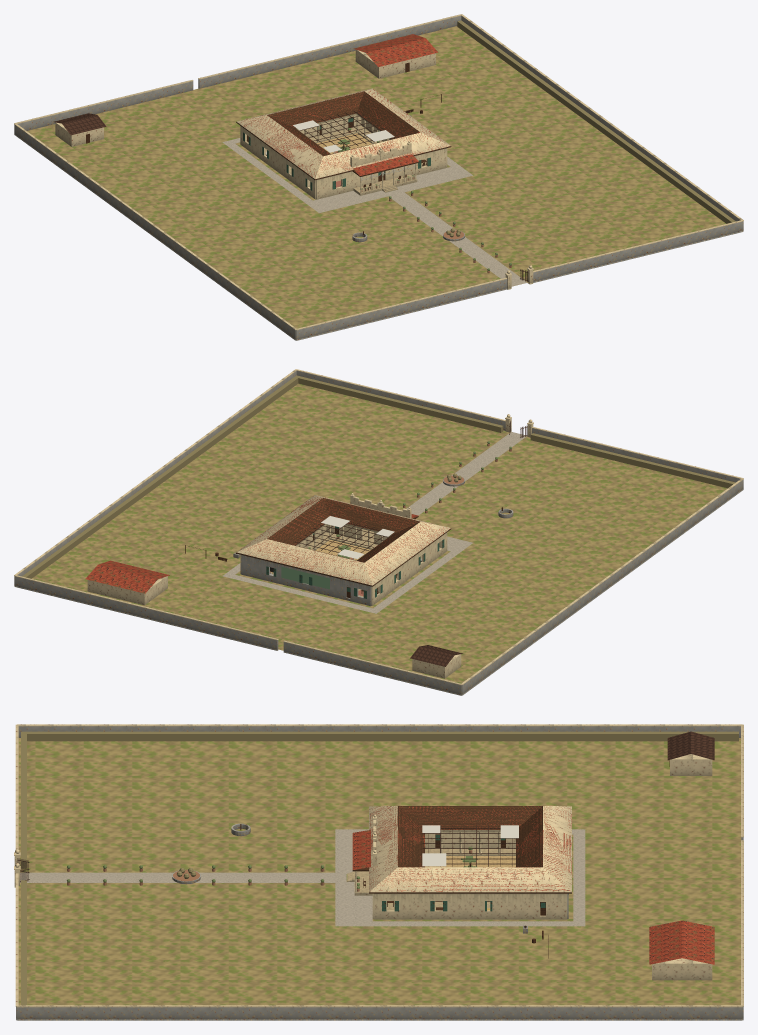
Rendered from lodge.14002855d1.glb.
The picture shows the model from 3 angles, top to bottom: view 1: azimuth 30°, elevation 25°; view 2: azimuth 150°, elevation 25°; view 3: azimuth 270°, elevation 25°; orthographic projection. The views are drawn at different scales.
Parts seen in each view (by area): view 1: grounds, house; view 2: grounds, house; view 3: grounds, house.
Boxes of the visible parts, x1,y1,x2,y2 form: grounds: (14, 14, 743, 340); house: (236, 88, 451, 199); grounds: (14, 369, 743, 695); house: (236, 493, 451, 606); grounds: (14, 724, 743, 1020); house: (347, 806, 571, 919).
Size of what is drawn, in the model's own units: 111 by 14.34 by 121.
30 materials, 14 textured.
